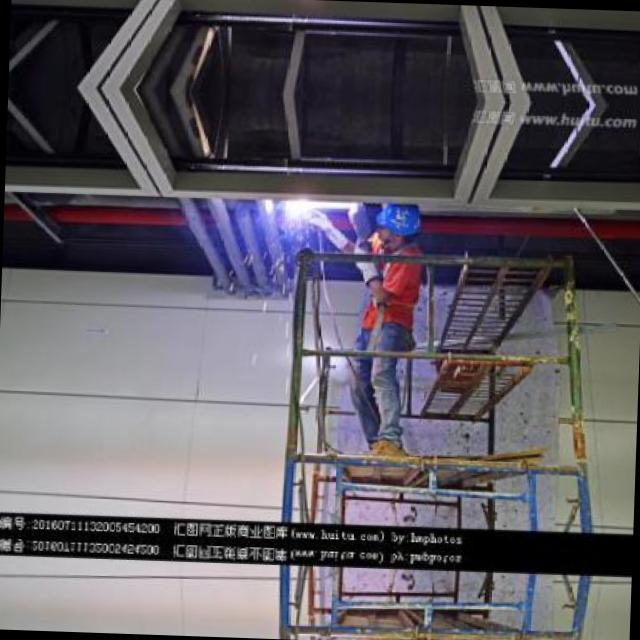helmet: (368, 203, 424, 242)
